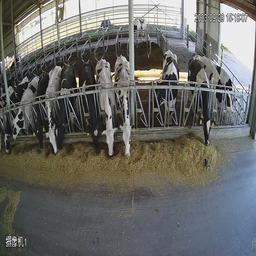cow: (147, 39, 182, 131), (95, 55, 121, 172), (75, 59, 103, 164), (113, 52, 138, 163), (189, 54, 215, 160), (13, 68, 39, 156), (41, 51, 59, 162), (56, 58, 74, 156), (212, 53, 233, 113), (134, 11, 149, 41)
